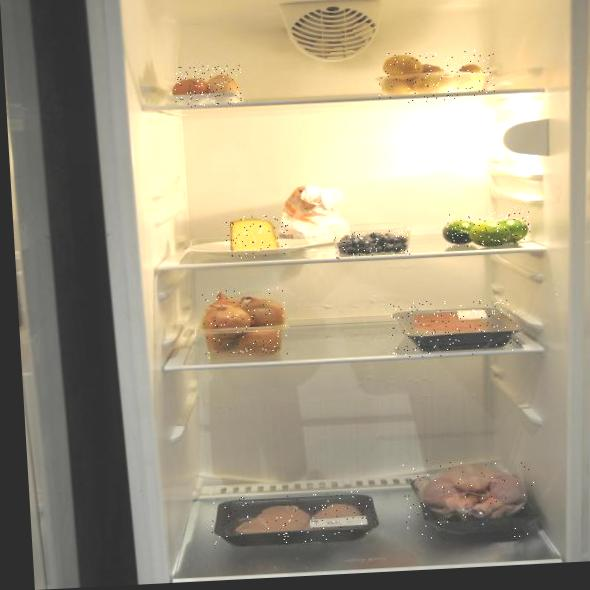cheese: (223, 213, 290, 259)
chicken: (402, 455, 537, 544)
eggs: (174, 64, 243, 108)
lime: (445, 210, 532, 248)
meat: (209, 490, 377, 548), (390, 296, 519, 359)
olive: (332, 230, 410, 260)
onion: (201, 287, 291, 359)
potatoes: (376, 48, 496, 105)
